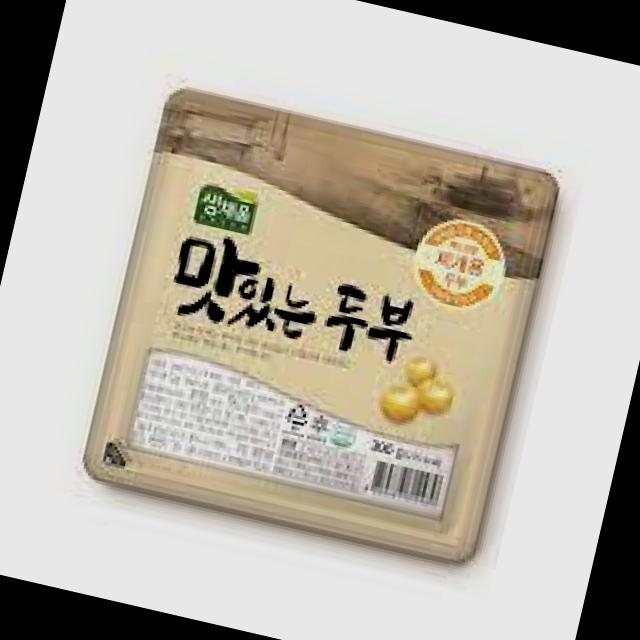tof: (67, 69, 573, 582)
